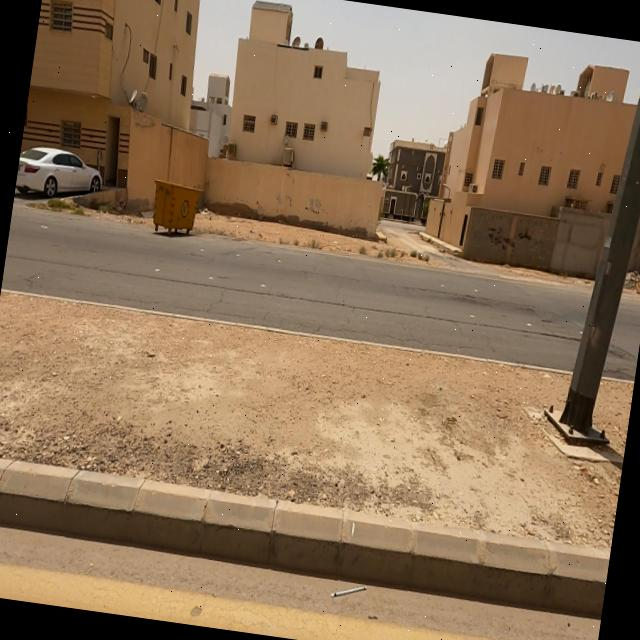Graffiti: (485, 224, 535, 256), (304, 198, 323, 217), (276, 194, 294, 208)
